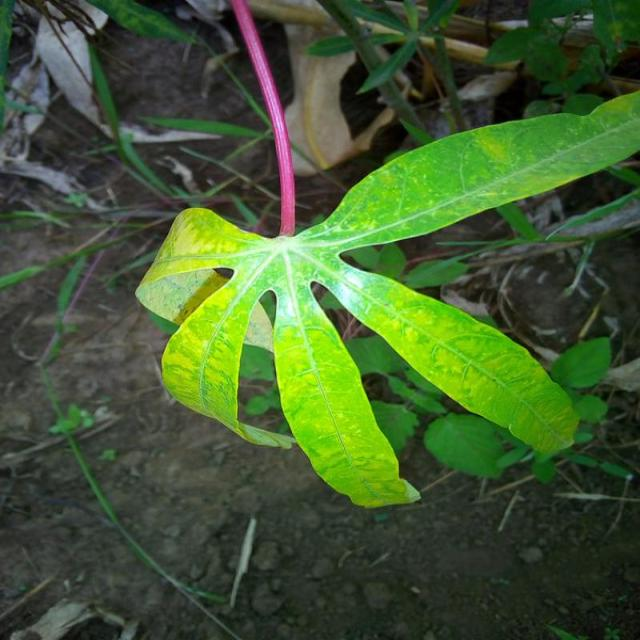cassava leaf: (135, 3, 638, 510)
